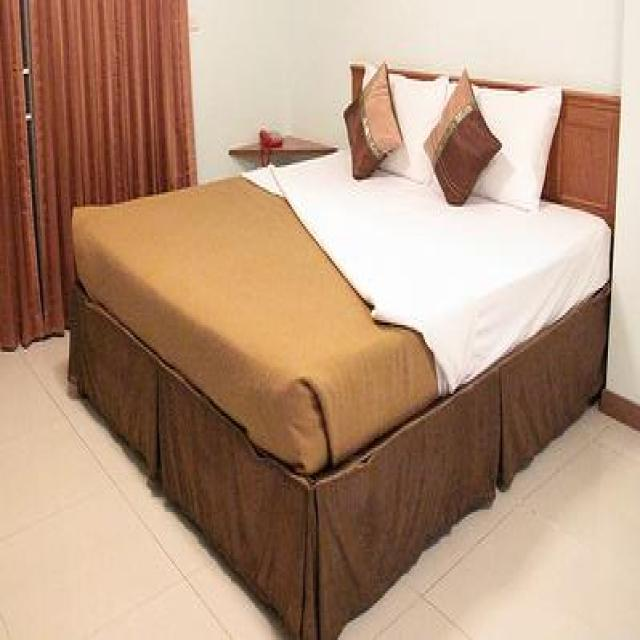bed: (66, 59, 619, 638)
